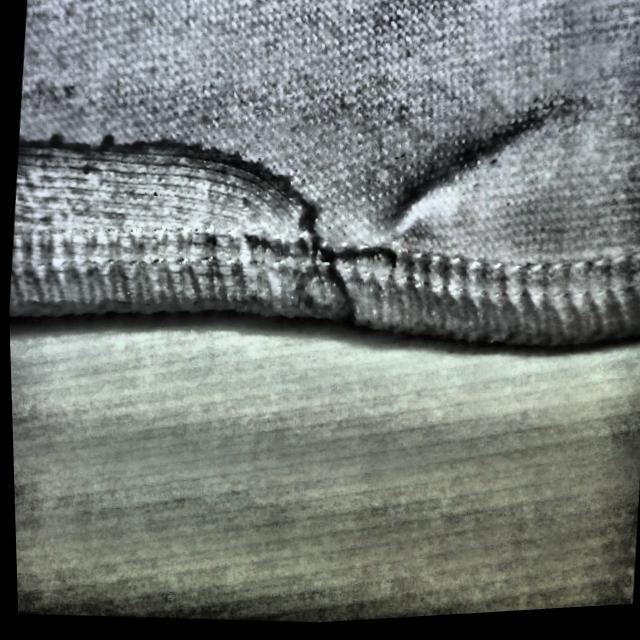seam: (2, 56, 327, 344)
